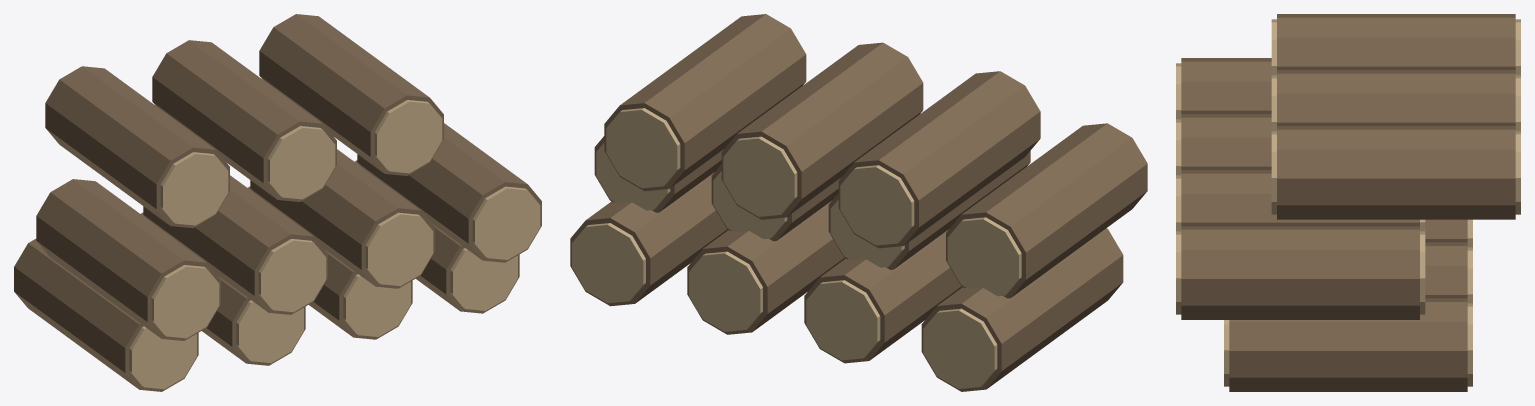
The model's file is courtyard_woodpile.glb.
3 views of the same model, side by side, from view 1: azimuth 30°, elevation 25°; view 2: azimuth 150°, elevation 25°; view 3: azimuth 270°, elevation 25° (orthographic). The views are drawn at different scales.
Visible parts, largest first — view 1: Log_0_0, LogEndA_0_0; view 2: Log_0_0, LogEndA_0_0; view 3: Log_0_0, LogEndA_0_0.
Part boxes in pixels (left/top/right/bottom): Log_0_0: left=14, top=14, right=541, bottom=391; LogEndA_0_0: left=129, top=100, right=540, bottom=389; Log_0_0: left=570, top=14, right=1147, bottom=391; LogEndA_0_0: left=572, top=108, right=1021, bottom=388; Log_0_0: left=1181, top=14, right=1515, bottom=391; LogEndA_0_0: left=1176, top=19, right=1520, bottom=386.
Bounding box in the file's own units: 1.84 × 0.96 × 1.3.
